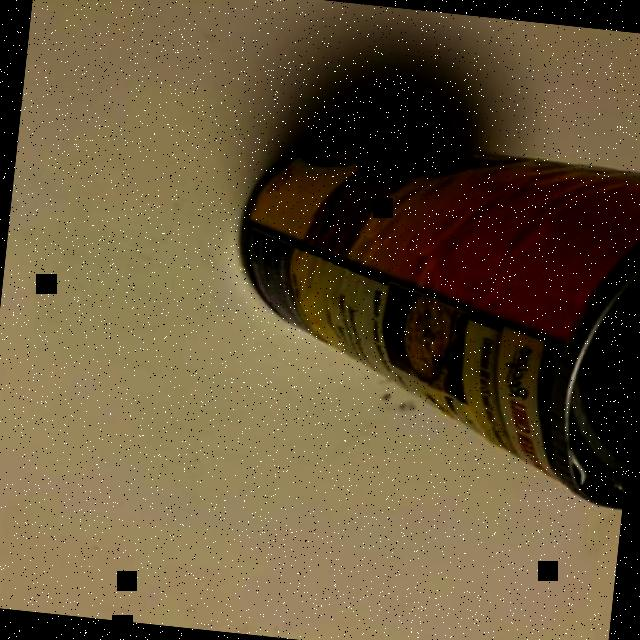can: (212, 111, 640, 512)
